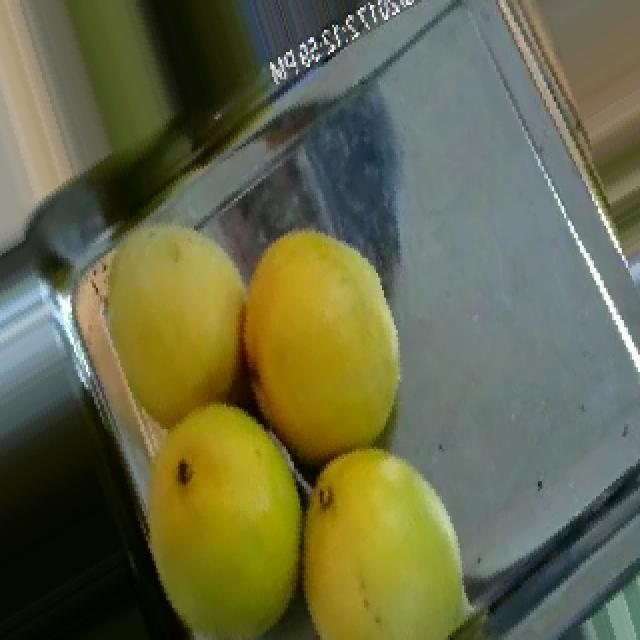mango: (242, 226, 400, 464), (146, 402, 302, 637), (302, 447, 468, 638), (106, 220, 244, 427)
